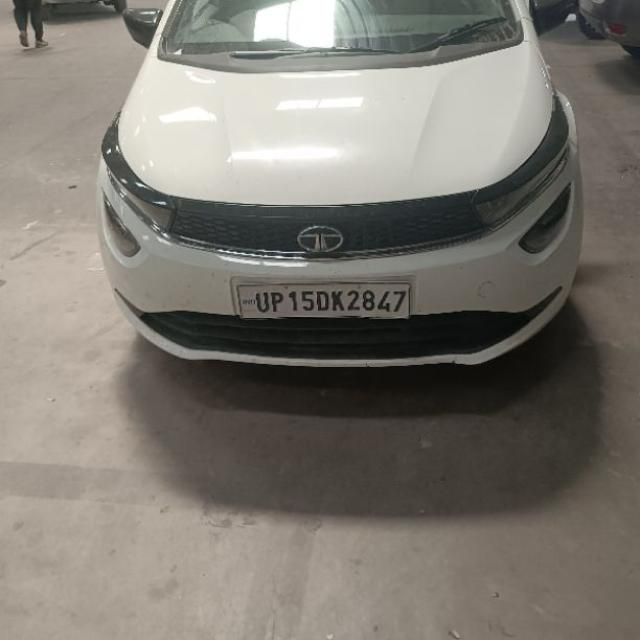license_plate: (231, 277, 411, 321)
